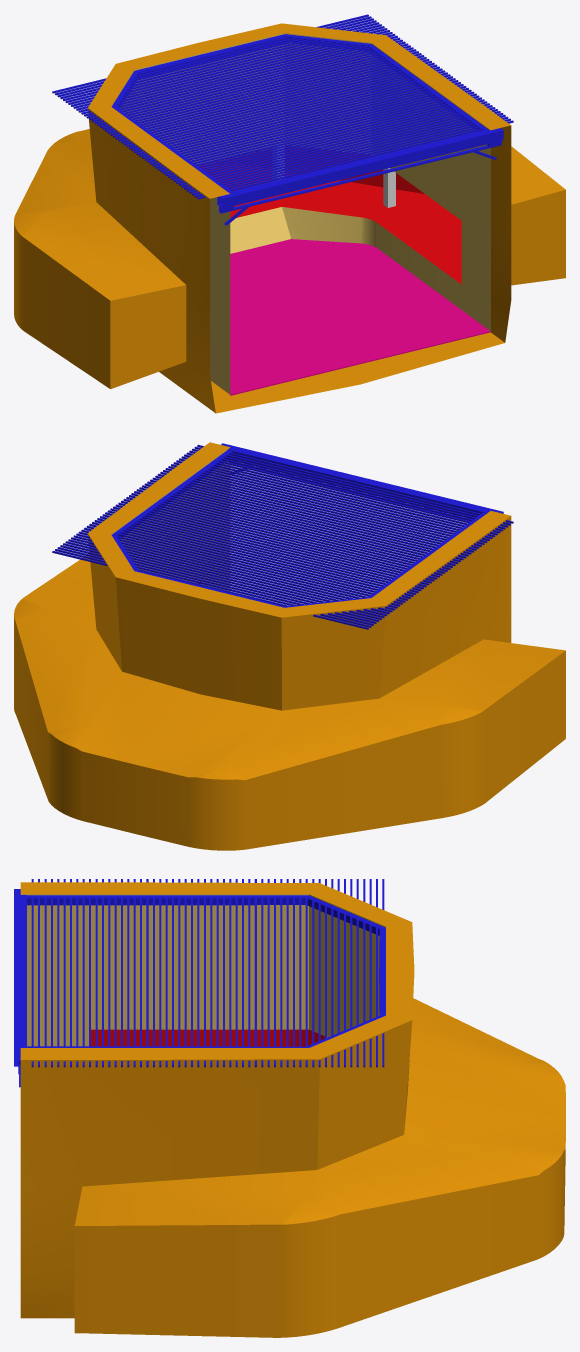
File: Ghost_Arena_one side_for txt.fbx
3 views of the same model, one above another, from view 1: azimuth 30°, elevation 25°; view 2: azimuth 150°, elevation 25°; view 3: azimuth 270°, elevation 25° (orthographic). The views are drawn at different scales.
Visible parts, largest first — view 1: Plane.005, tOIT, Plane.008, Sol.001, Plane.009, Cube.005; view 2: Plane.005, tOIT, Plane.008; view 3: Plane.005, Plane.008, tOIT, Plane.009.
Boxes of the visible parts, x1,y1,x2,y2 form: Plane.005: (14, 23, 565, 413); tOIT: (52, 14, 513, 225); Plane.008: (111, 33, 490, 394); Sol.001: (230, 239, 490, 395); Plane.009: (198, 146, 461, 284); Cube.005: (272, 145, 395, 207); Plane.005: (14, 442, 565, 850); tOIT: (52, 443, 513, 629); Plane.008: (111, 447, 230, 590); Plane.005: (20, 882, 565, 1337); Plane.008: (20, 894, 385, 1046); tOIT: (14, 879, 385, 1087); Plane.009: (91, 1029, 324, 1046).
Bounding box in the file's own units: 5430 × 2503 × 4653.
